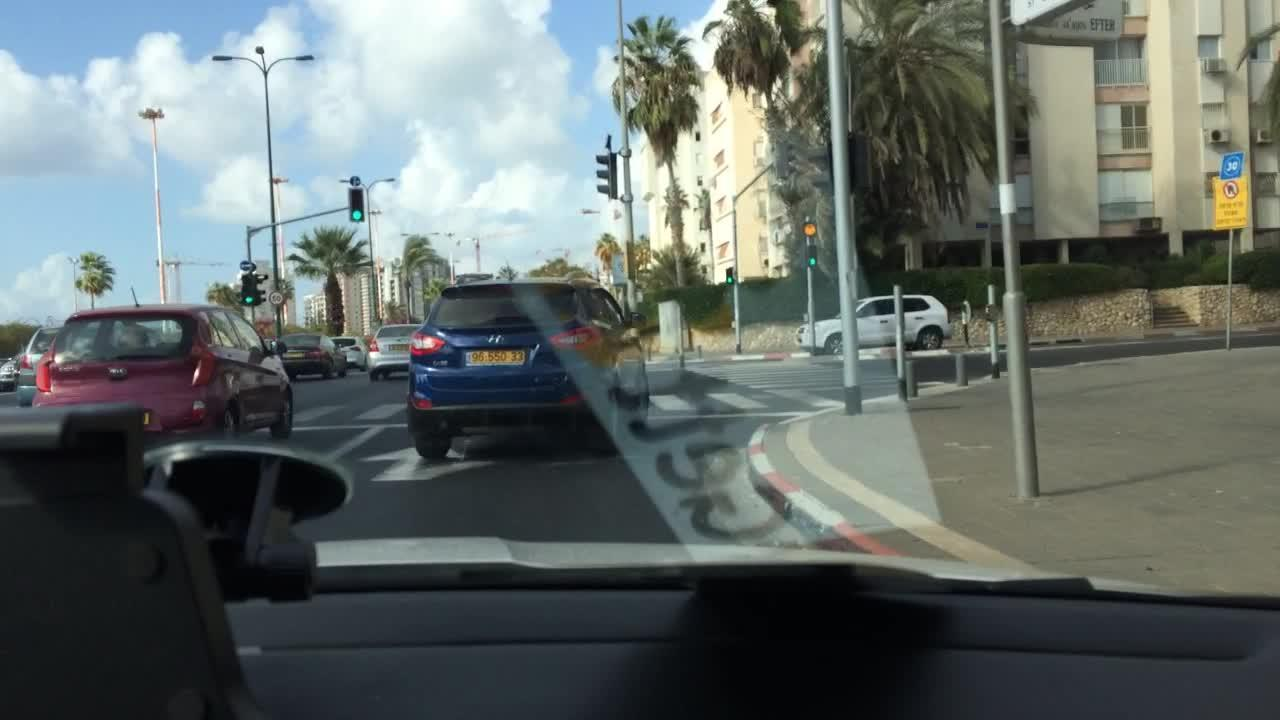Hyundai: (477, 323, 511, 348)
kia: (107, 365, 129, 379)
